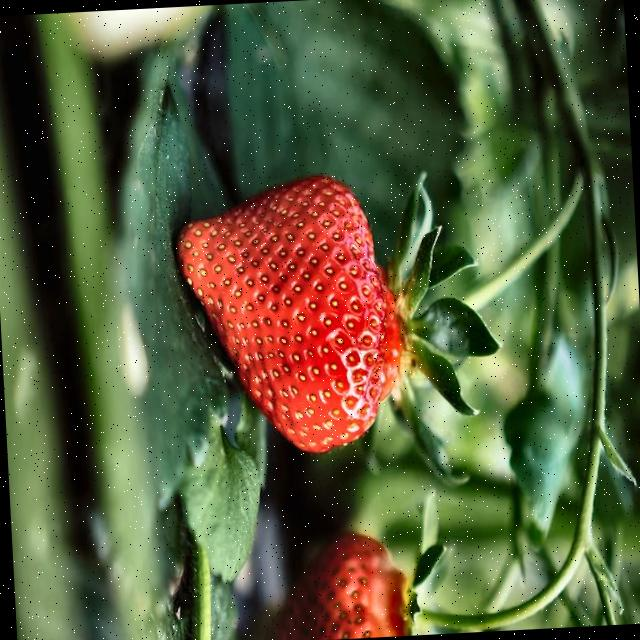strawberry: (177, 177, 402, 452), (276, 533, 407, 640)
